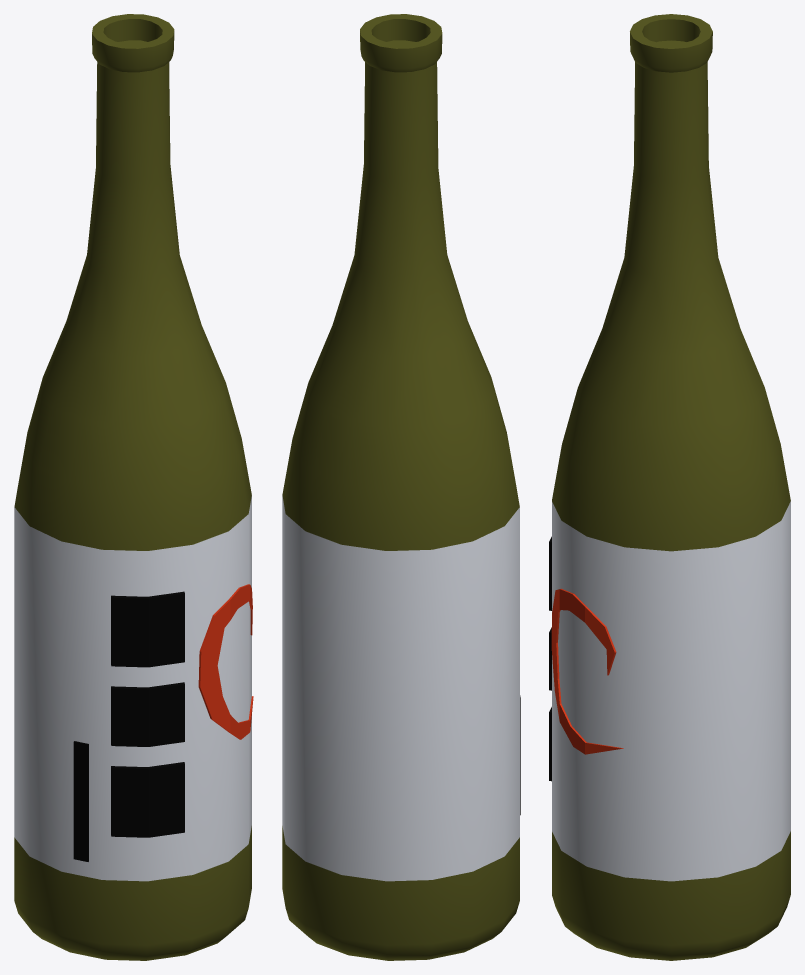
Rendered from 7_wine.fbx.
The picture shows the model from 3 angles, left to right: view 1: azimuth 30°, elevation 25°; view 2: azimuth 150°, elevation 25°; view 3: azimuth 270°, elevation 25°; orthographic projection.
Parts seen in each view (by area): view 1: 7_wine; view 2: 7_wine; view 3: 7_wine.
Boxes of the visible parts, bbox=[...] form: 7_wine: bbox=[14, 14, 253, 960]; 7_wine: bbox=[282, 14, 520, 960]; 7_wine: bbox=[549, 14, 790, 960].
Size of the model in its own units: 20.05 by 82.19 by 20.28.
